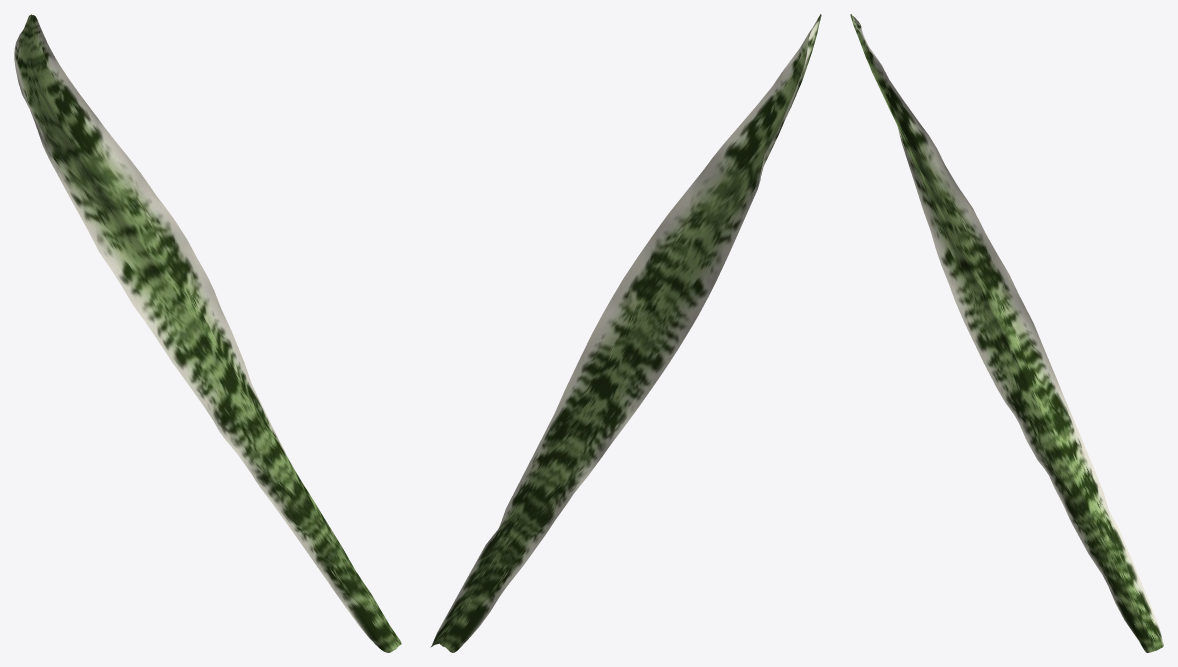
The picture shows the model from 3 angles, left to right: view 1: azimuth 30°, elevation 25°; view 2: azimuth 150°, elevation 25°; view 3: azimuth 330°, elevation 25°; orthographic projection. The views are drawn at different scales.
Parts seen in each view (by area): view 1: sansevieriaplant.012; view 2: sansevieriaplant.012; view 3: sansevieriaplant.012.
Boxes of the visible parts, x1,y1,x2,y2 form: sansevieriaplant.012: (14, 14, 401, 652); sansevieriaplant.012: (430, 14, 821, 652); sansevieriaplant.012: (850, 14, 1163, 652).
Bounding box in the file's own units: 0.707 × 1.3 × 0.0938.
Materials: 1 (1 with a texture image).
